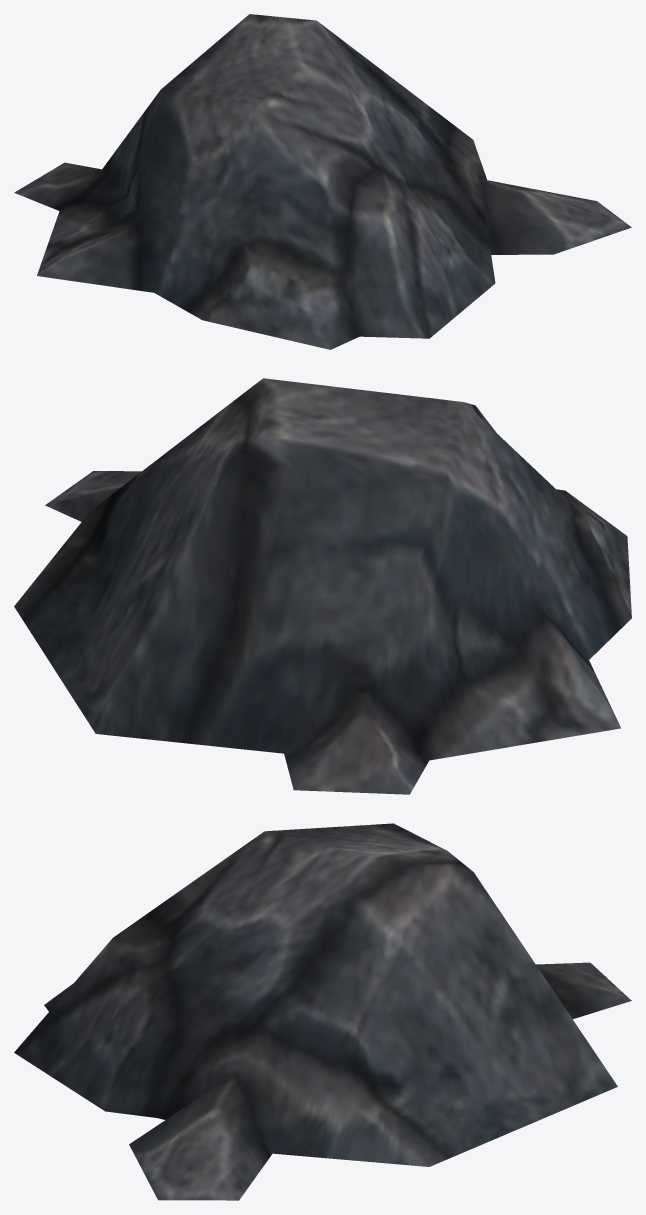
The model's file is GWZ_Stone_01_LOD2.FBX.
3 views of the same model, one above another, from view 1: azimuth 30°, elevation 25°; view 2: azimuth 150°, elevation 25°; view 3: azimuth 270°, elevation 25° (orthographic). The views are drawn at different scales.
Visible parts, largest first — view 1: GWZ_Stone_01_LOD2; view 2: GWZ_Stone_01_LOD2; view 3: GWZ_Stone_01_LOD2.
Boxes of the visible parts, box(x1,y1,x2,y2) form: GWZ_Stone_01_LOD2: box(14, 14, 631, 349); GWZ_Stone_01_LOD2: box(14, 378, 631, 794); GWZ_Stone_01_LOD2: box(14, 823, 631, 1200).
Size of the model in its own units: 1464 by 542 by 1386.
